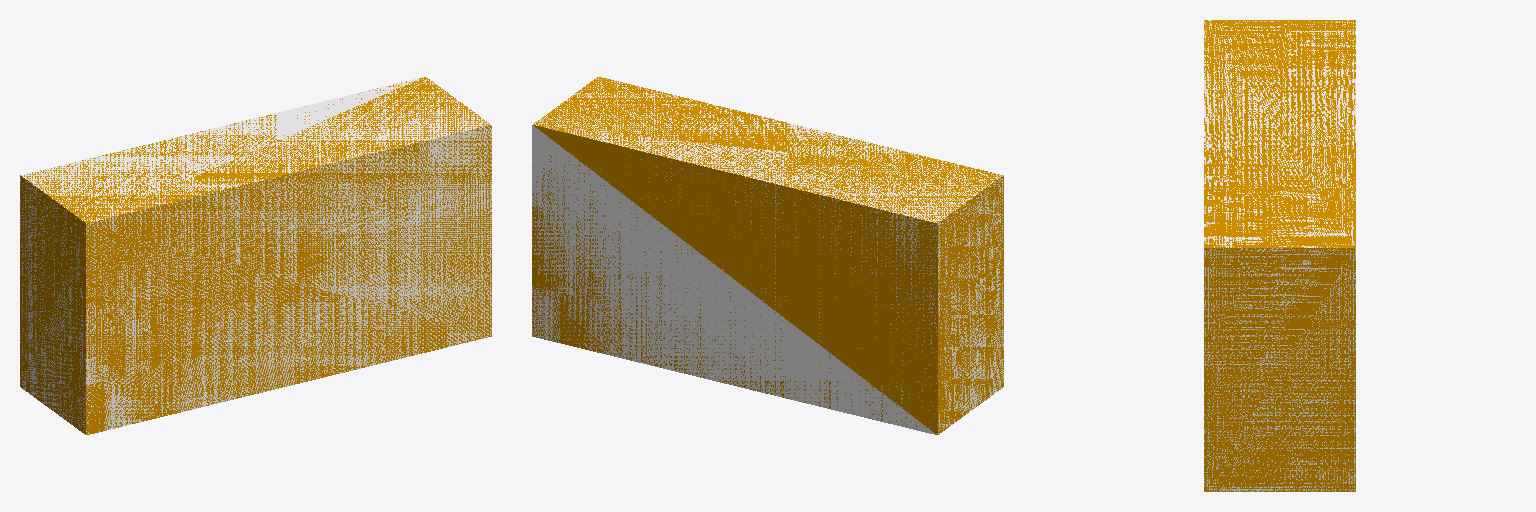
URDF robot description (my_object):
<?xml version="1.0" ?> 
<robot name="my_object" static="true">
  <link name="base_link">
  <inertial>
    <mass value="1.0" />
    <origin xyz="0 0 0.0" />
    <inertia ixx="1.0" ixy="0.0" ixz="0.0" iyy="1.0" iyz="0.0" izz="1.0"/>
  </inertial>
  <visual>
   <origin xyz="0 0 0.0" rpy="0 0 -1.570796327" />
   <geometry>
     <mesh filename="package://cob_gazebo_objects/Media/models/cabinet_ikea_galant.dae"/>
   </geometry>
  </visual>
  <collision>
   <origin xyz="0 0 0.4" rpy="0 0 0" />
   <geometry>
     <box size="1.6 0.45 0.80" />
   </geometry>
  </collision>     
  </link>

<gazebo>
	<static>true</static>
</gazebo>
</robot>

--- What the picture shows (computed from the rendered views, not written in the file) ---
3 views of the same robot in one strip: view 1: azimuth 30°, elevation 25°; view 2: azimuth 150°, elevation 25°; view 3: azimuth 270°, elevation 25° (orthographic).
Model my_object with 1 links and 0 joints (none), rooted at base_link, posed all joints at 0.
Links seen in each view (by area): view 1: base_link; view 2: base_link; view 3: base_link.
Link boxes in pixels (box(x1,y1,x2,y2)): base_link: box(20, 77, 491, 434); base_link: box(532, 77, 1003, 434); base_link: box(1204, 20, 1355, 491).
Size in the robot's own frame: 1.6 by 0.4503 by 0.7996 metres.
Meshes: 1 distinct files referenced, 1 mesh visuals loaded (1 Collada DAE).